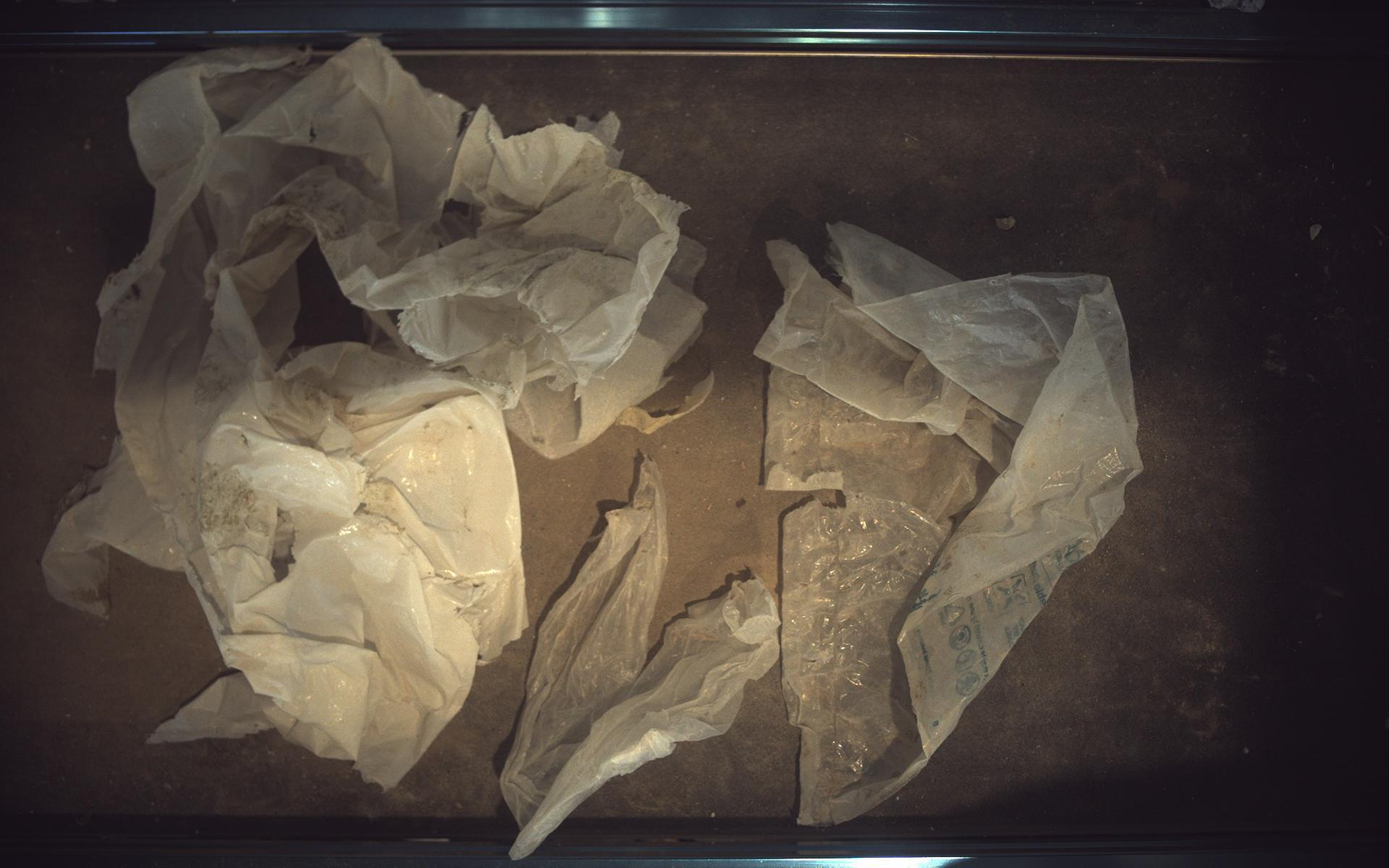general_w: (41, 37, 712, 788), (756, 222, 1144, 825), (501, 459, 781, 861)
